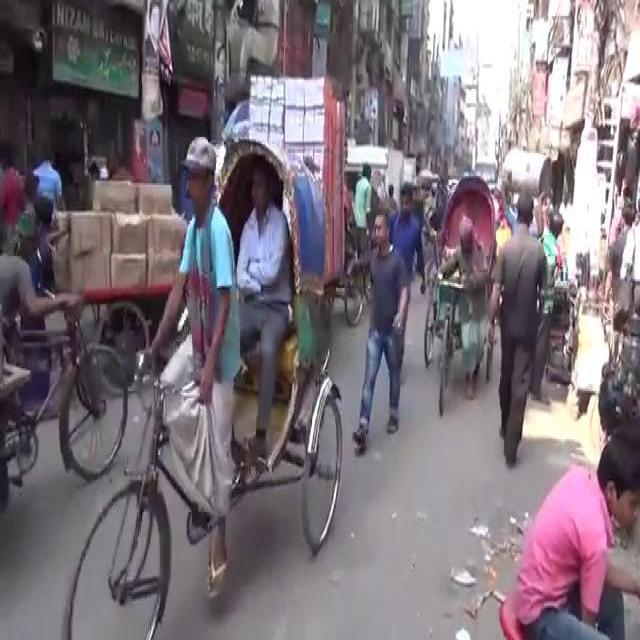motorcycle: (60, 130, 345, 633), (417, 172, 498, 422), (341, 164, 380, 322)
truck: (348, 138, 402, 212)
